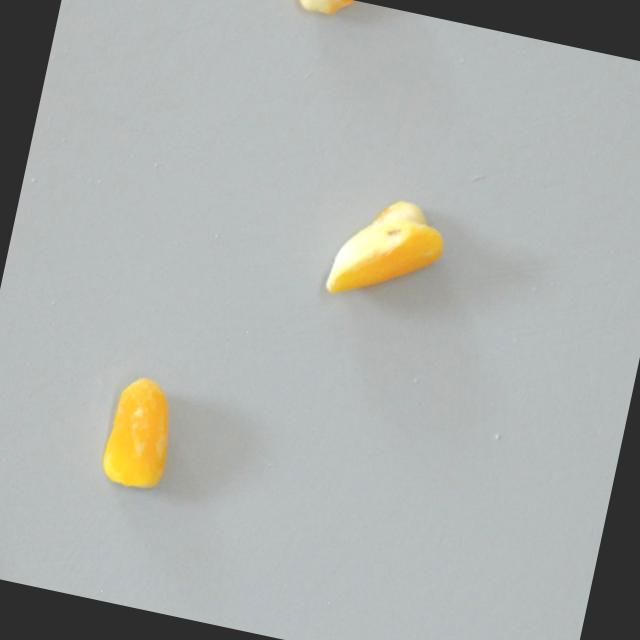pelicula: (92, 364, 186, 494)
punto_negro: (314, 181, 456, 321), (288, 0, 385, 27)
